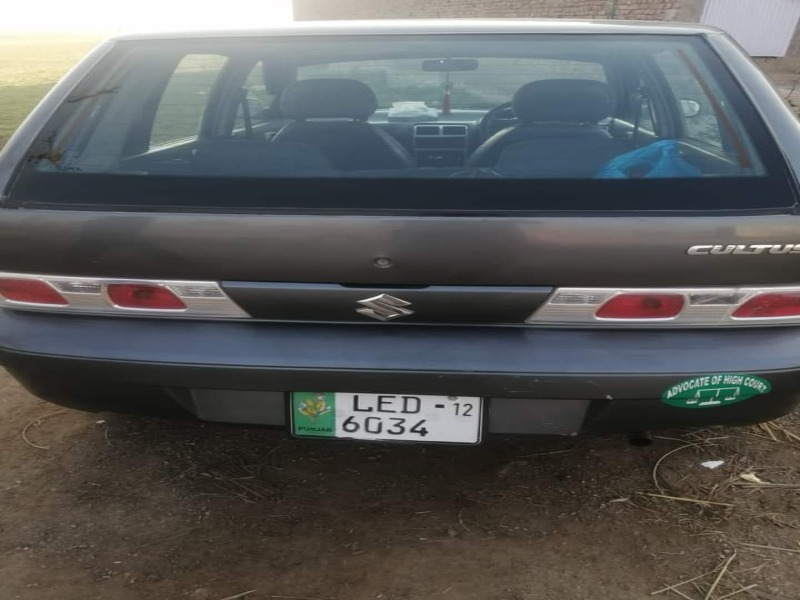License Plate: (284, 387, 484, 447)
